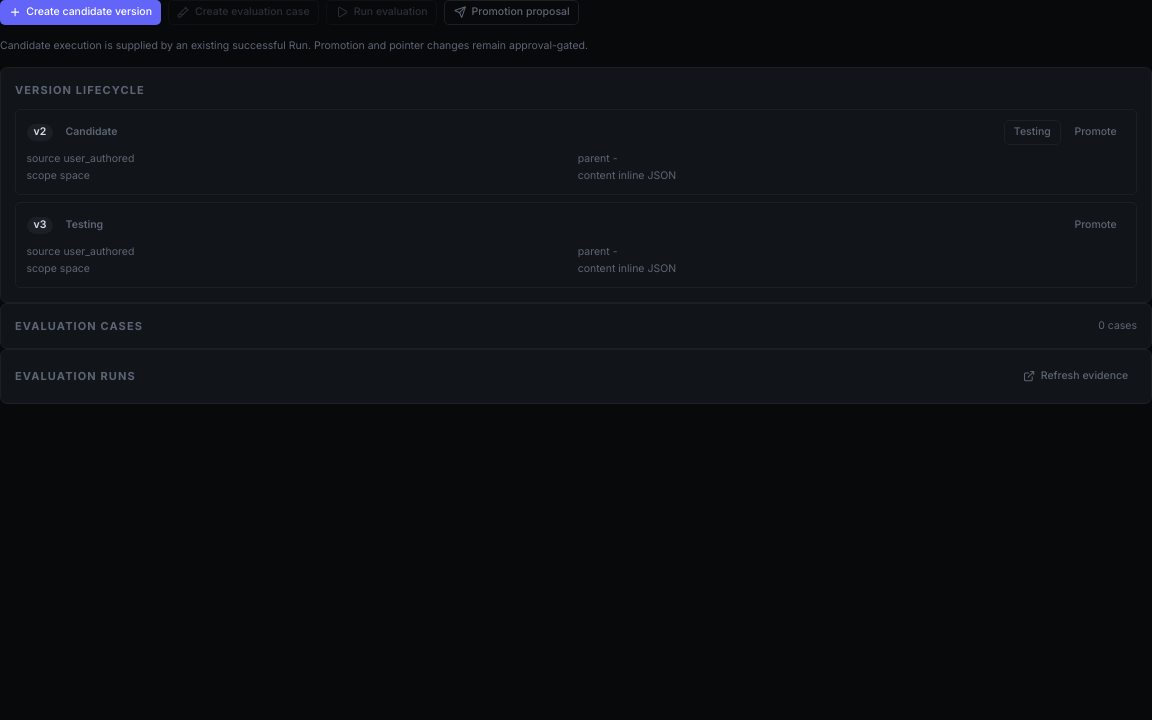
it: AssetLifecyclePanel › preselects the version whose Promote button was pressed
Click the 2nd button "Promote".
click(1096, 225)  # box [1066,213,1126,238]
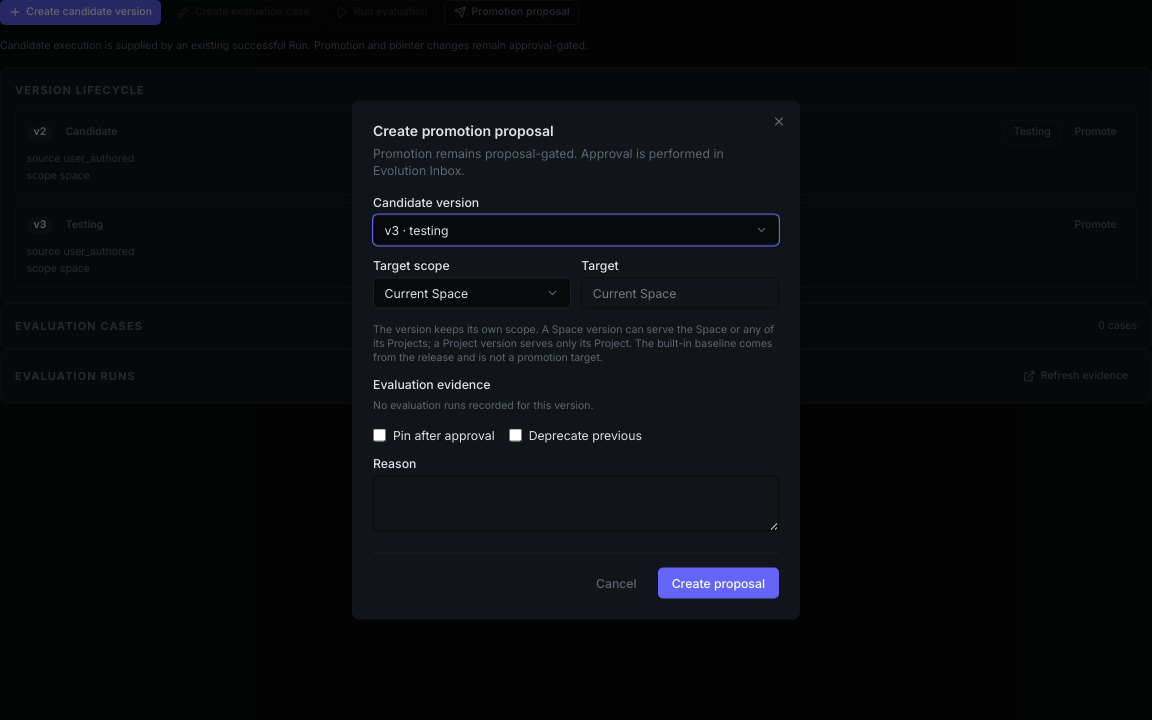
Expected: the text "v3 · testing" is shown, [384,221,449,239]
